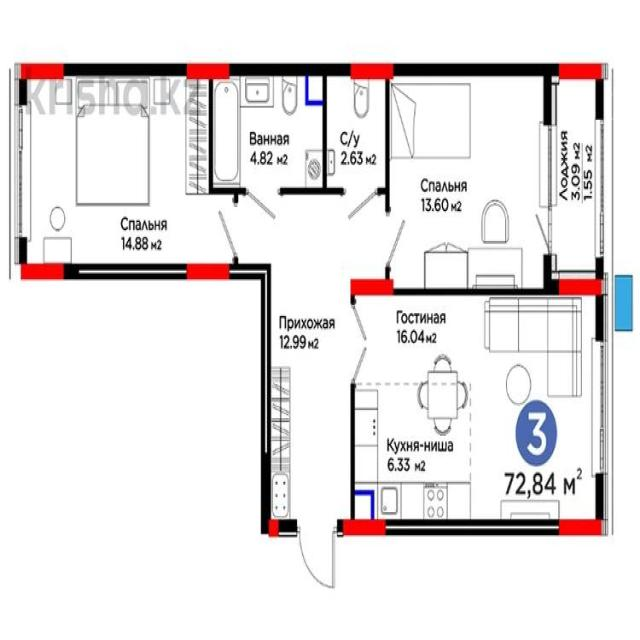balcony: (548, 67, 604, 290)
bathroom: (211, 68, 326, 194), (326, 67, 389, 195)
hallway: (213, 188, 390, 530)
living_room: (15, 65, 212, 278), (387, 64, 550, 291)
studio: (352, 281, 608, 533)
